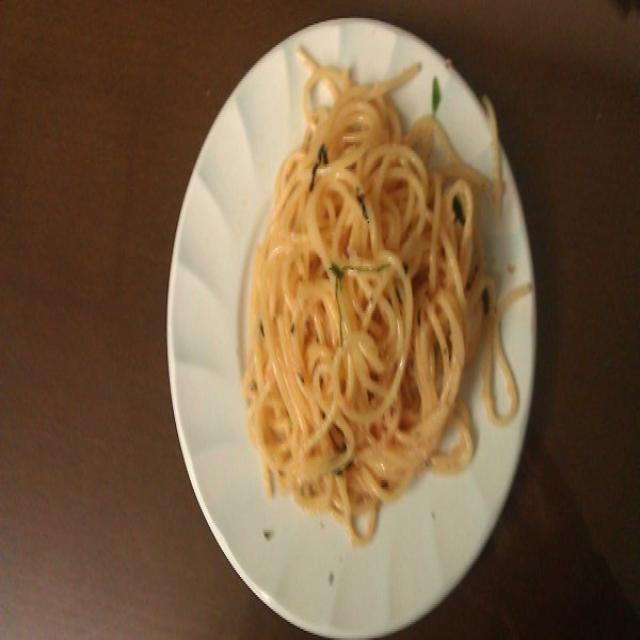Pasta: (237, 107, 516, 482)
